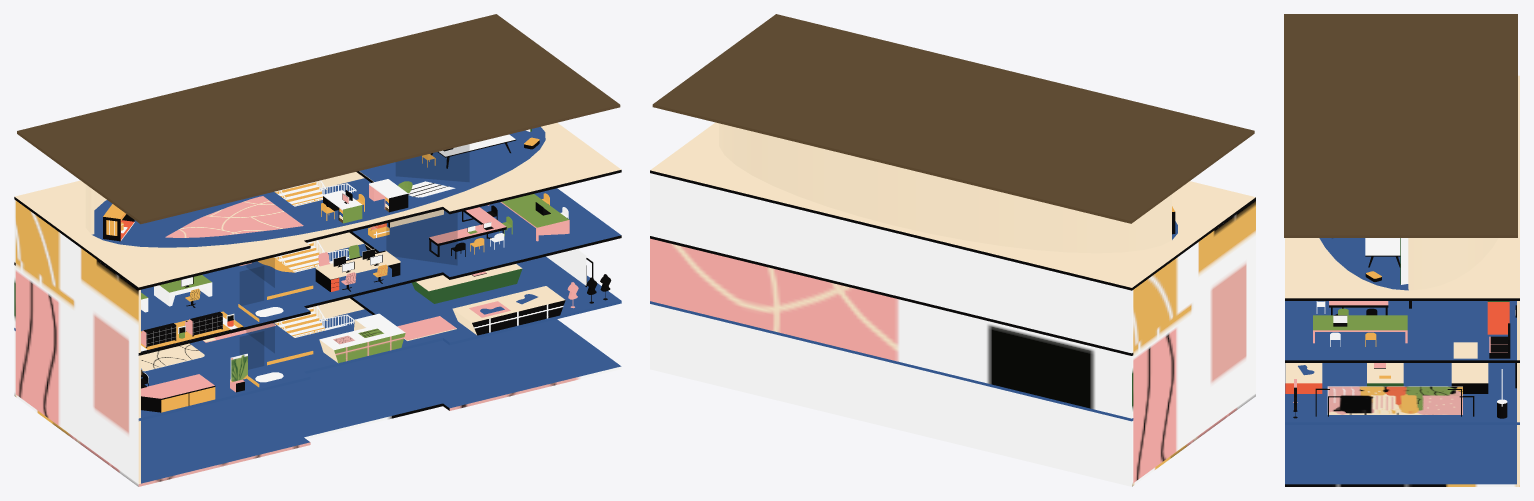
Rendered from 左学校.fbx.
3 views of the same model, side by side, from view 1: azimuth 30°, elevation 25°; view 2: azimuth 150°, elevation 25°; view 3: azimuth 270°, elevation 25° (orthographic). The views are drawn at different scales.
Visible parts, largest first — view 1: 左学校, 立方体_11_2, 挤压_1_3, 立方体_3, 立方体_11, 立方体_4_2, 立方体_21, 立方体_6_3, 立方体_5_2, table_2_2, stairs2_1, 立方体_10_2 (+14 smaller); view 2: 左学校; view 3: 左学校, 立方体_2_2, 立方体_5_2, 立方体_6, 立方体_3, 立方体_4_2, 立方体_4_4, table_13, 立方体_3_3, 立方体_4_3, 立方体_10_2, 扫描_1.
Part boxes in pixels (left/top/right/bottom): 左学校: left=14, top=14, right=621, bottom=486; 立方体_11_2: left=387, top=210, right=456, bottom=264; 挤压_1_3: left=165, top=196, right=303, bottom=237; 立方体_3: left=452, top=286, right=565, bottom=335; 立方体_11: left=319, top=313, right=405, bottom=363; 立方体_4_2: left=412, top=264, right=522, bottom=303; 立方体_21: left=141, top=374, right=215, bottom=412; 立方体_6_3: left=396, top=145, right=468, bottom=181; 立方体_5_2: left=487, top=194, right=569, bottom=241; table_2_2: left=315, top=250, right=400, bottom=291; stairs2_1: left=274, top=305, right=354, bottom=337; 立方体_10_2: left=429, top=207, right=506, bottom=245; 左学校: left=650, top=14, right=1255, bottom=486; 左学校: left=1284, top=14, right=1519, bottom=486; 立方体_2_2: left=1327, top=386, right=1462, bottom=414; 立方体_5_2: left=1313, top=315, right=1407, bottom=343; 立方体_6: left=1451, top=363, right=1488, bottom=393; 立方体_3: left=1285, top=363, right=1322, bottom=393; 立方体_4_2: left=1367, top=363, right=1403, bottom=386; 立方体_4_4: left=1487, top=301, right=1509, bottom=334; table_13: left=1365, top=238, right=1400, bottom=267; 立方体_3_3: left=1489, top=323, right=1510, bottom=358; 立方体_4_3: left=1453, top=342, right=1477, bottom=358; 立方体_10_2: left=1329, top=301, right=1388, bottom=307; 扫描_1: left=1400, top=238, right=1408, bottom=284.
Bounding box in the file's own units: 2703 × 1419 × 1208.
